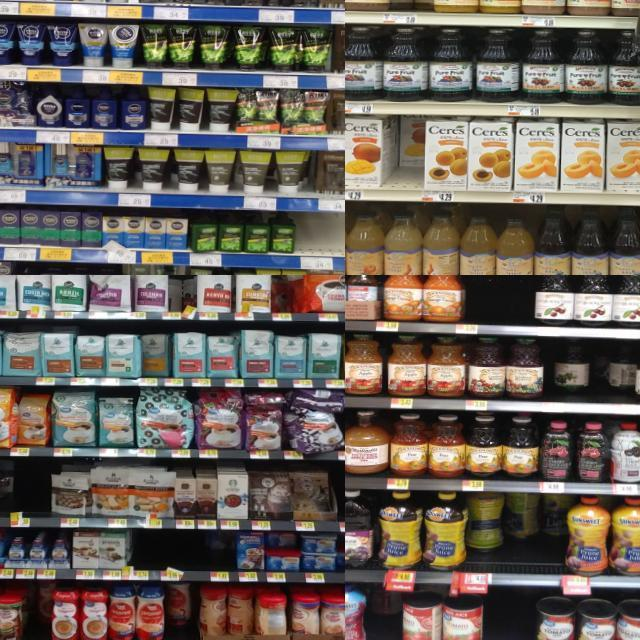empty: (466, 275, 532, 333), (296, 212, 345, 268), (484, 594, 536, 640), (159, 529, 201, 580), (17, 460, 48, 526), (134, 530, 156, 580), (339, 471, 345, 529)
